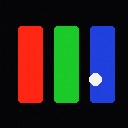2 circle: (89, 73, 101, 85)
